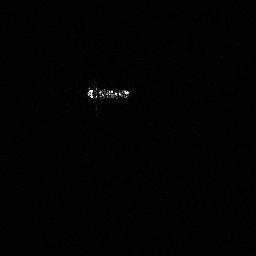ship: (83, 83, 133, 101)
